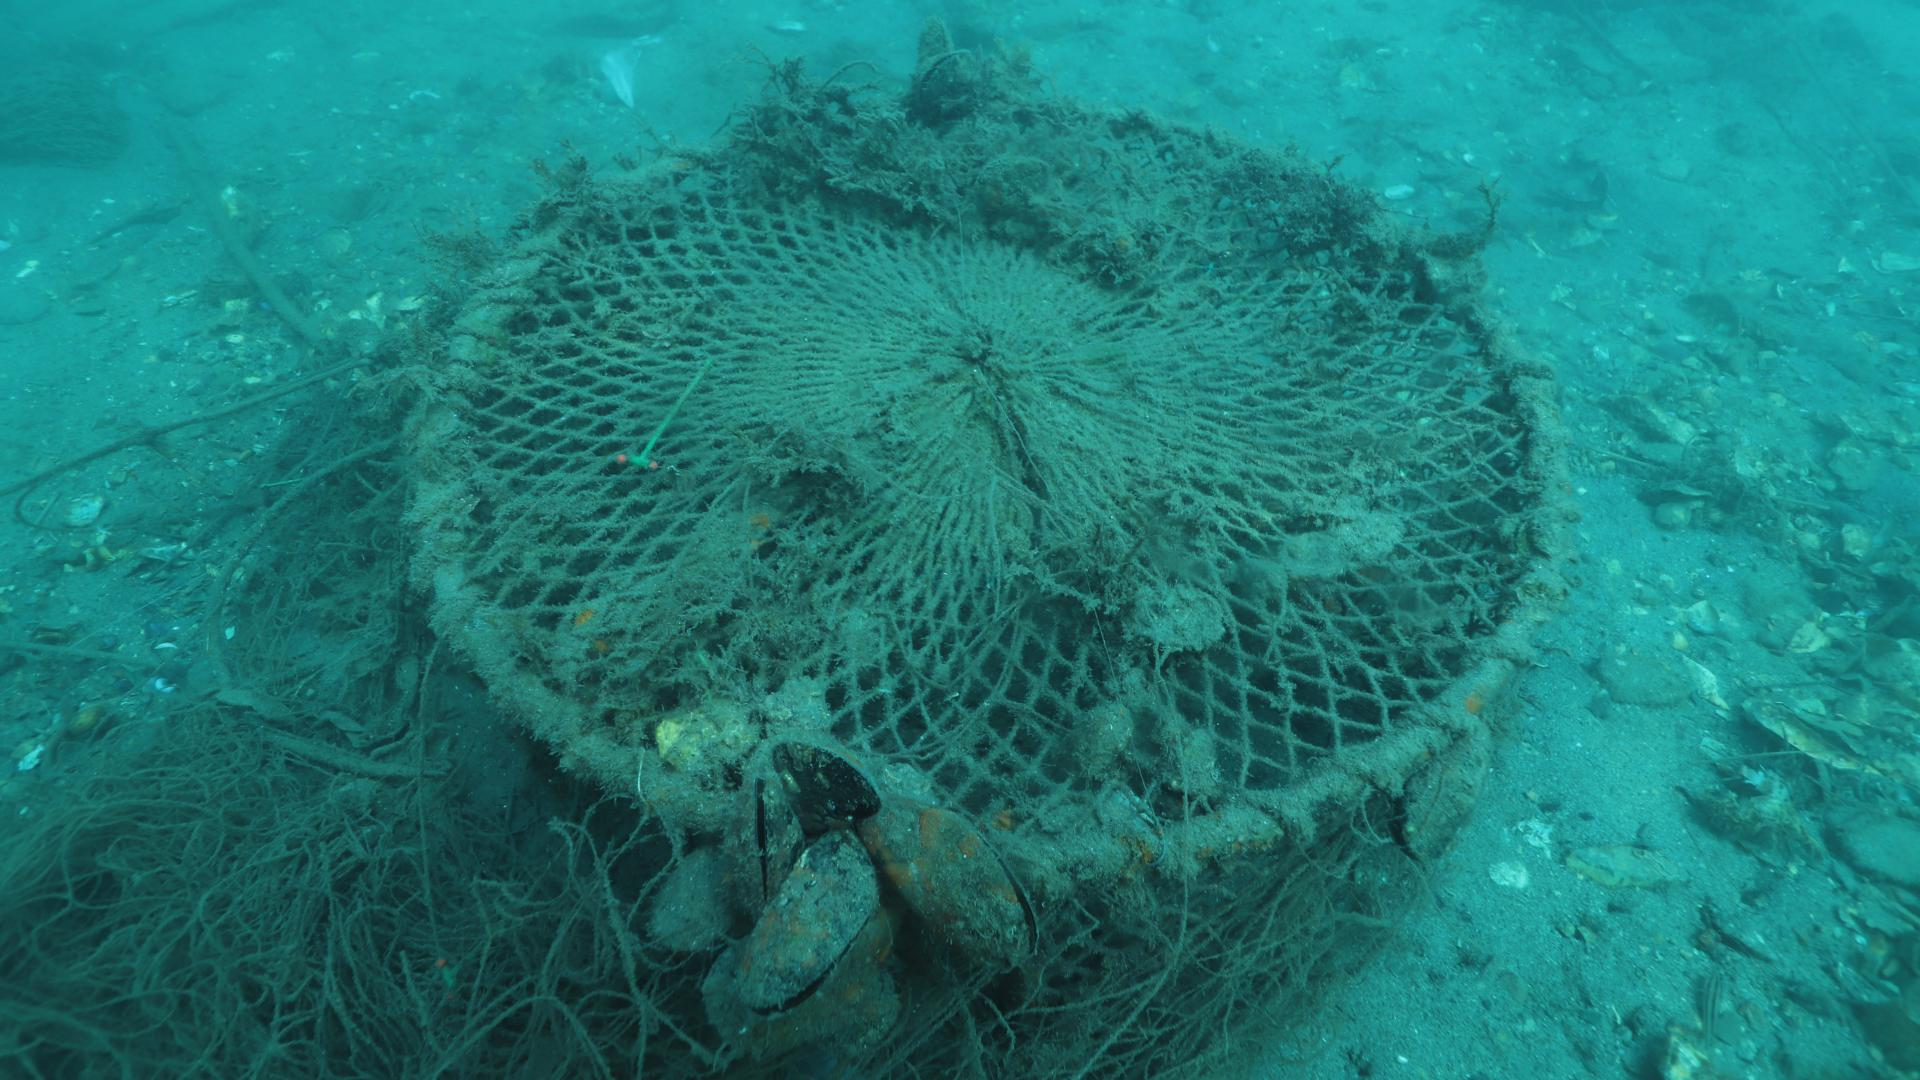circular fish trap: (404, 94, 1571, 881)
